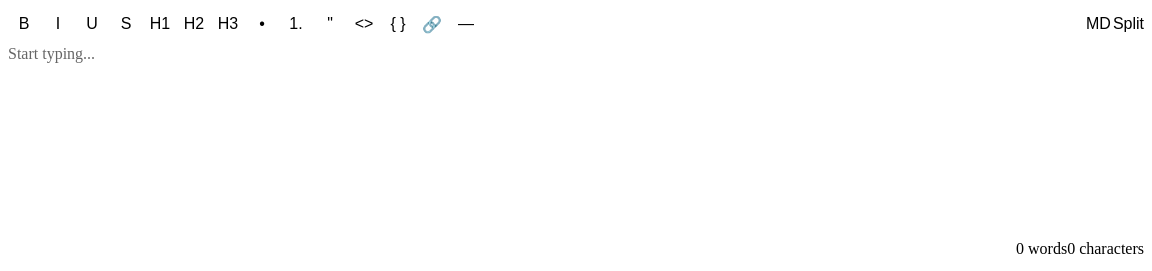
Test: RichTextEditorComponent › Modes › should switch to split mode
Click the button with class "lc-rich-text-editor__mode-btn" showing "Split" at (1128, 24), box [1113,15,1144,33]
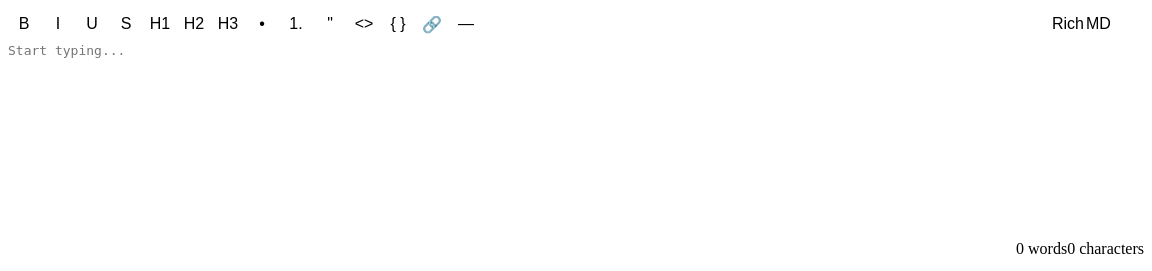
Expected: the element with class "lc-rich-text-editor__split" is shown, [8,40,576,240]
